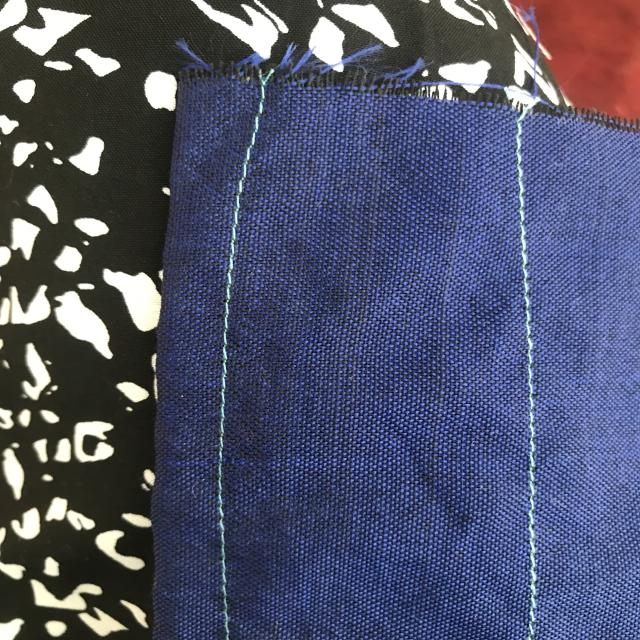good: (213, 268, 242, 378), (210, 429, 233, 539)
